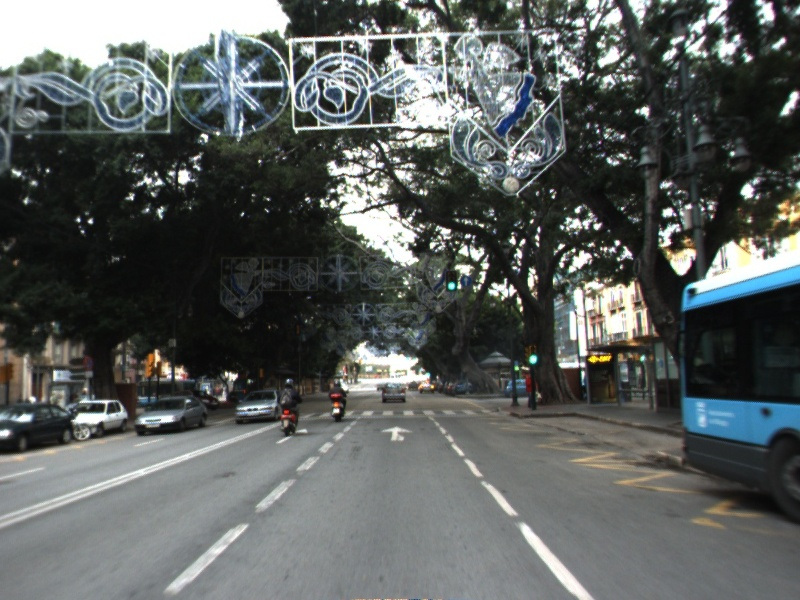STRAIGHT: (273, 426, 311, 446), (379, 424, 416, 443)
